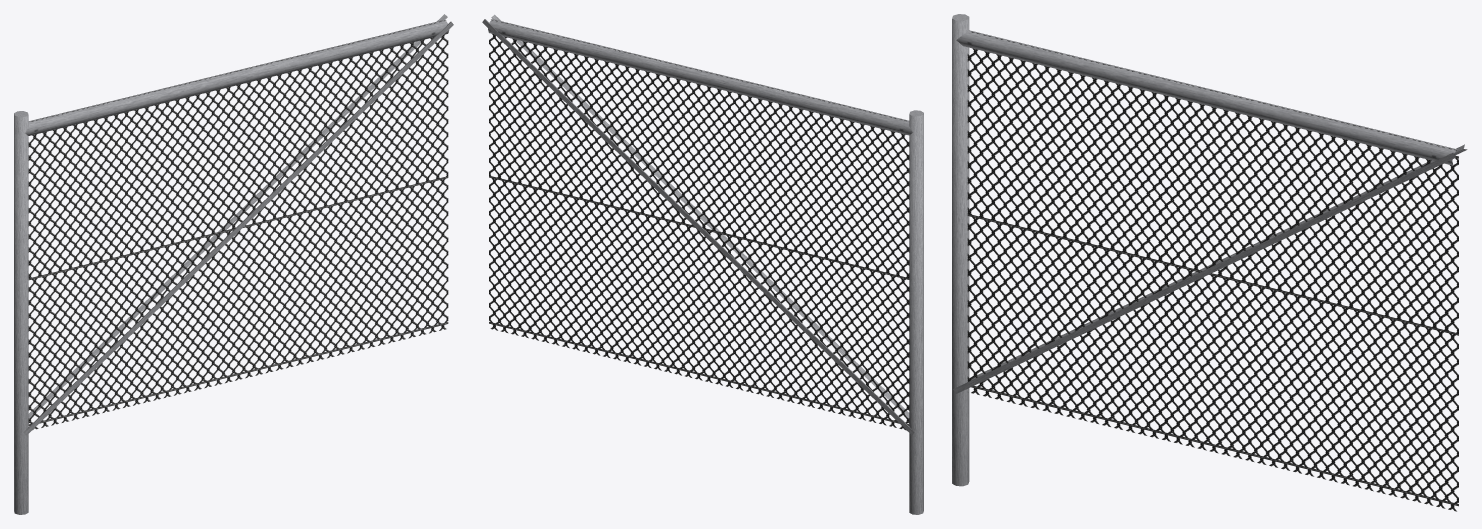
The model's file is fence-tall-chainlink-start-cbj_LOD01.gltf.
3 renders of one model, left to right at view 1: azimuth 30°, elevation 25°; view 2: azimuth 150°, elevation 25°; view 3: azimuth 330°, elevation 25°, orthographic. The views are drawn at different scales.
Visible parts, largest first — view 1: Cube01; view 2: Cube01; view 3: Cube01.
Boxes of the visible parts, bbox=[...] form: Cube01: bbox=[14, 14, 453, 514]; Cube01: bbox=[482, 14, 923, 514]; Cube01: bbox=[952, 14, 1467, 511].
Bounding box in the file's own units: 2.67 × 2.33 × 0.0899.
